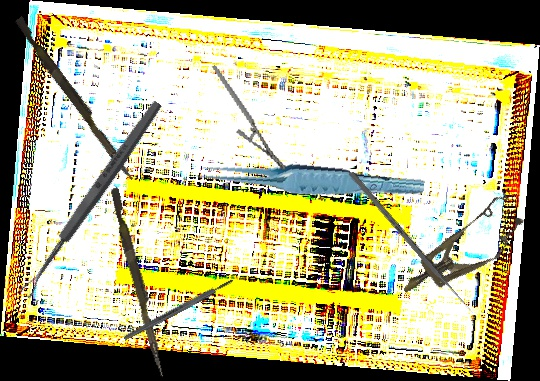Needle Holder: (211, 53, 288, 182)
Pusher: (10, 16, 141, 182), (348, 171, 475, 315), (105, 186, 172, 379)
Scalpel Handle: (122, 277, 235, 342)
Speculum: (388, 189, 534, 313)
Surgical Spoon: (17, 98, 165, 300)
Tissue Forceps: (193, 146, 426, 212)
